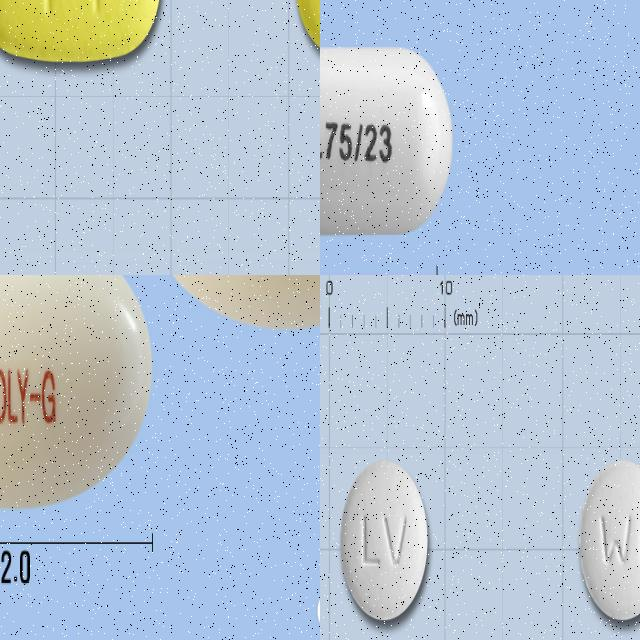Poly G Vaginal Soft Cap: (0, 275, 152, 509)
Qsymia Cap-3-75mg: (320, 37, 453, 244)
Withus Levofloxacin Tab: (342, 458, 429, 621), (578, 460, 640, 622)
Youngpoong Clarithromycin Tab: (0, 0, 161, 62)
